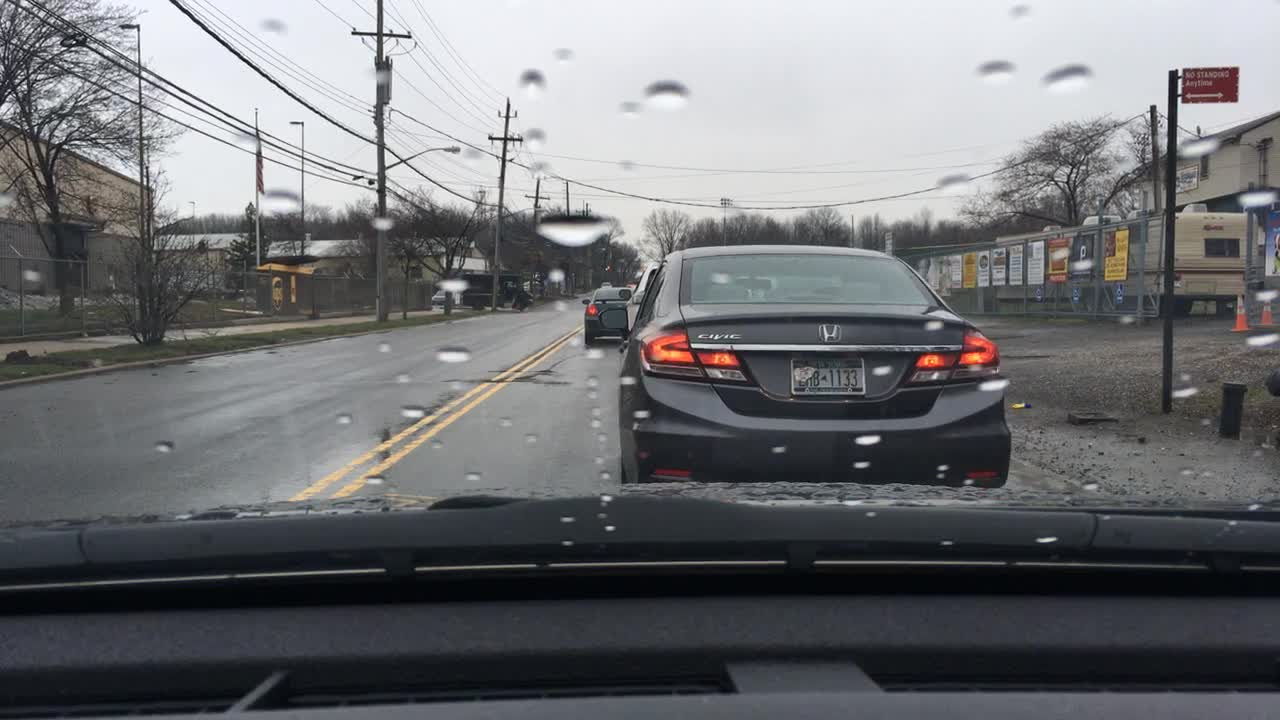car: (598, 247, 1013, 489), (618, 262, 660, 333), (578, 286, 628, 345), (430, 288, 454, 303)
traffic sign: (1180, 67, 1237, 101)
truck: (994, 199, 1259, 317), (461, 272, 532, 311)
